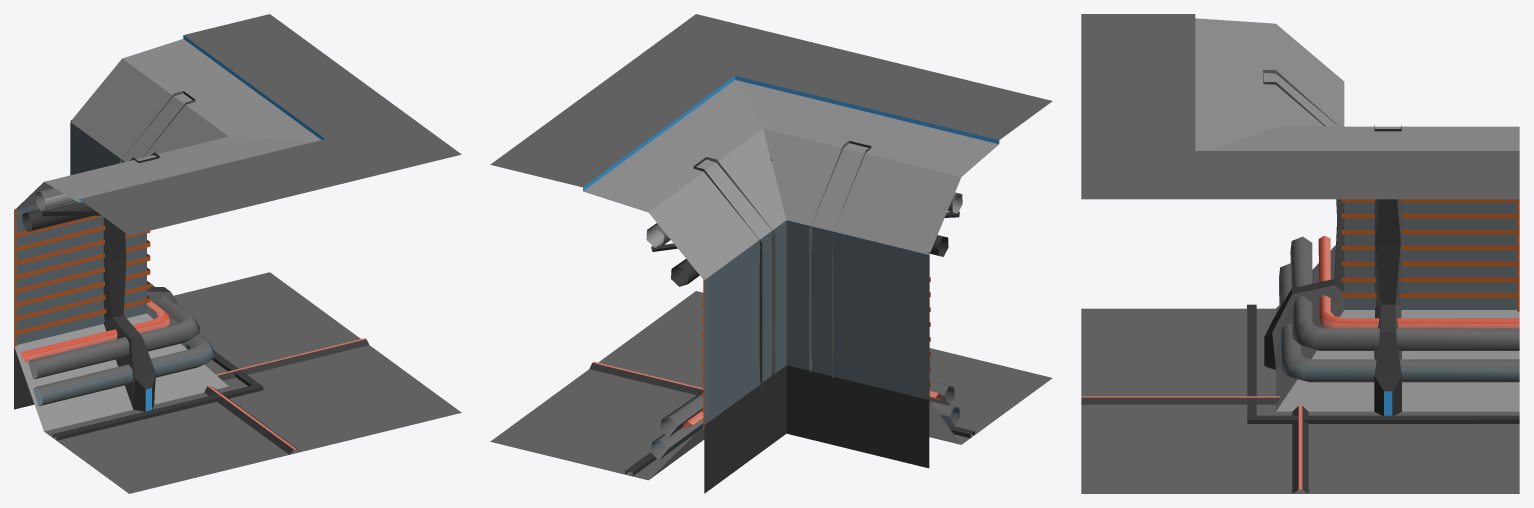
Rendered from Small_Inside_Corner_SciFi_Tunnel.fbx.
3 renders of one model, left to right at view 1: azimuth 30°, elevation 25°; view 2: azimuth 150°, elevation 25°; view 3: azimuth 270°, elevation 25°, orthographic. The views are drawn at different scales.
Parts seen in each view (by area): view 1: Small_Inside_Corner_SciFi_Tunnel, Small_Outside_Corner_SciFi_Ceiling, Small_Outside_Corner_SciFi_North, Small_Outside_Corner_SciFi_West; view 2: Small_Outside_Corner_SciFi_Ceiling, Small_Inside_Corner_SciFi_Tunnel, Small_Outside_Corner_SciFi_North, Small_Outside_Corner_SciFi_West; view 3: Small_Inside_Corner_SciFi_Tunnel, Small_Outside_Corner_SciFi_Ceiling, Small_Outside_Corner_SciFi_West, Small_Outside_Corner_SciFi_North.
Part boxes in pixels (left/top/right/bottom): Small_Inside_Corner_SciFi_Tunnel: left=14, top=272, right=461, bottom=493; Small_Outside_Corner_SciFi_Ceiling: left=44, top=14, right=461, bottom=235; Small_Outside_Corner_SciFi_North: left=14, top=152, right=159, bottom=411; Small_Outside_Corner_SciFi_West: left=70, top=58, right=228, bottom=349; Small_Outside_Corner_SciFi_Ceiling: left=490, top=14, right=1052, bottom=212; Small_Inside_Corner_SciFi_Tunnel: left=490, top=291, right=1052, bottom=493; Small_Outside_Corner_SciFi_North: left=763, top=129, right=962, bottom=403; Small_Outside_Corner_SciFi_West: left=646, top=129, right=786, bottom=429; Small_Inside_Corner_SciFi_Tunnel: left=1081, top=235, right=1519, bottom=493; Small_Outside_Corner_SciFi_Ceiling: left=1081, top=14, right=1519, bottom=199; Small_Outside_Corner_SciFi_West: left=1341, top=124, right=1519, bottom=415; Small_Outside_Corner_SciFi_North: left=1263, top=24, right=1344, bottom=369.
Bounding box in the file's own units: 500 × 372 × 500.
